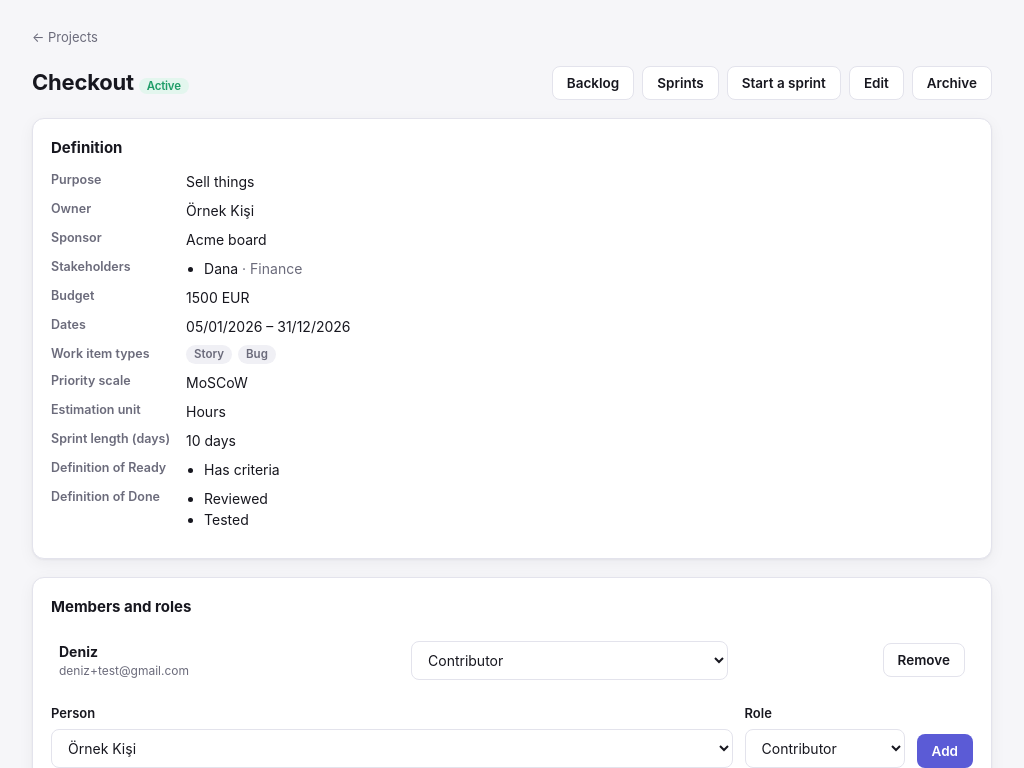
Scenario: the project page: members and roles › shows a role as text for a read-only person and an error when a change is refused
Select "Viewer" in the dropdown named "Role Deniz": (569, 660) [411,641,728,680]
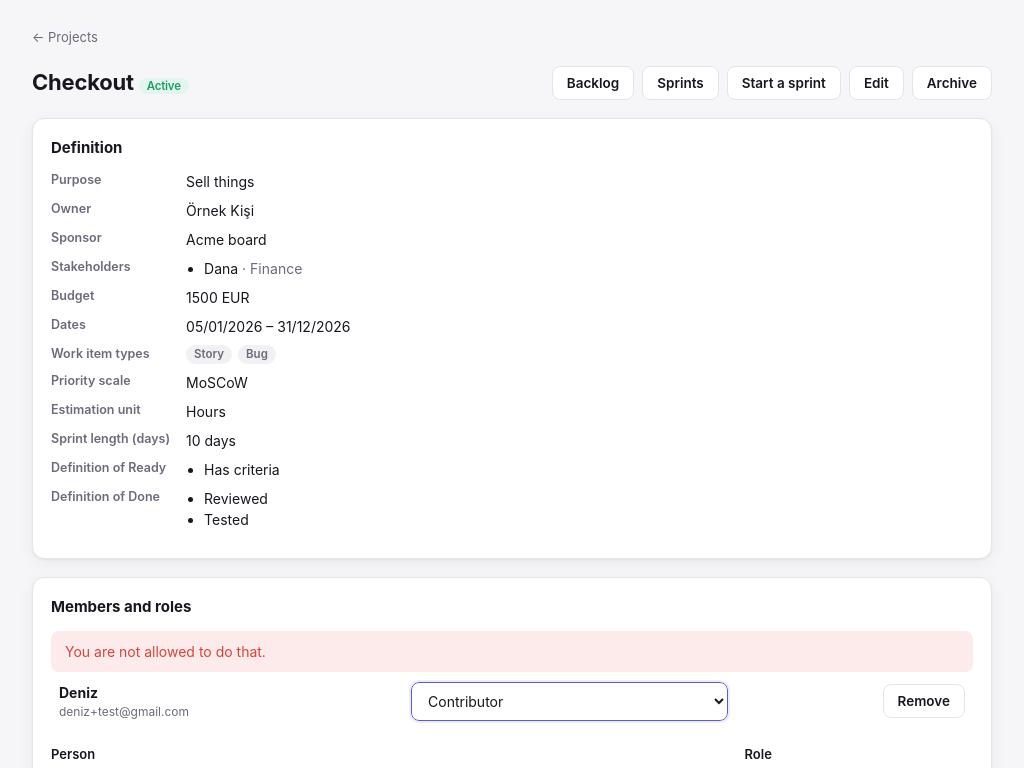
Check: the text "You are not allowed to do that." is shown, box [51,631,973,672]
